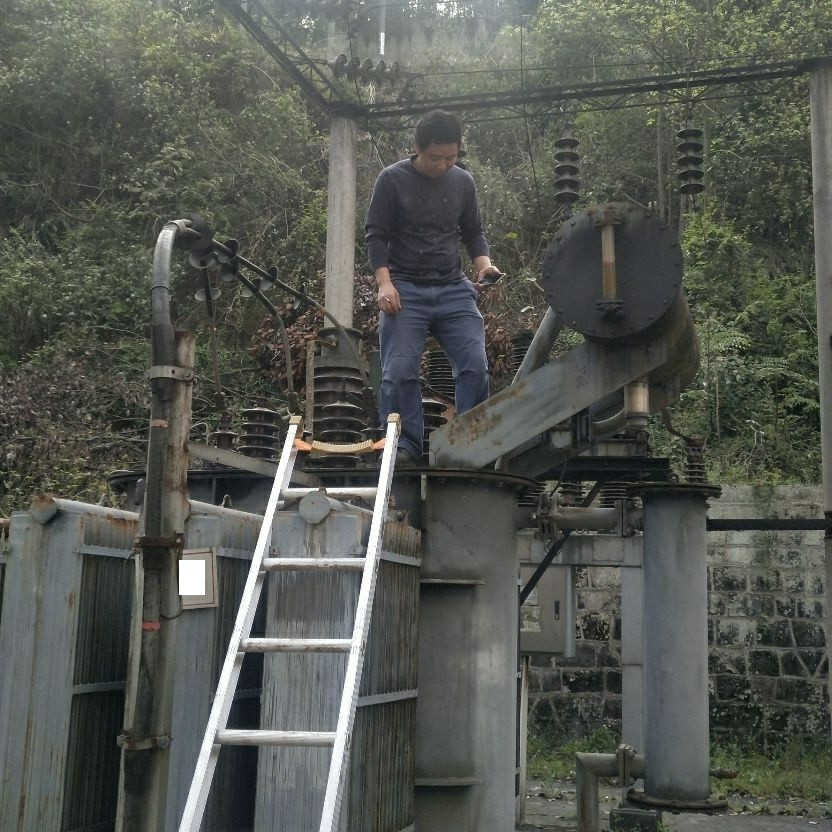no-hat: (407, 106, 469, 187)
